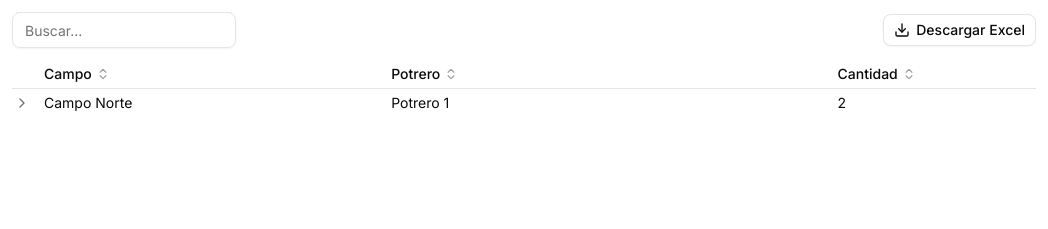
LivestockByPaddockTable › expands a group to show a table with each animal's data
Expected: the text "AR1" is not shown
Click the button named "expandir": (22, 103) [12,93,32,113]
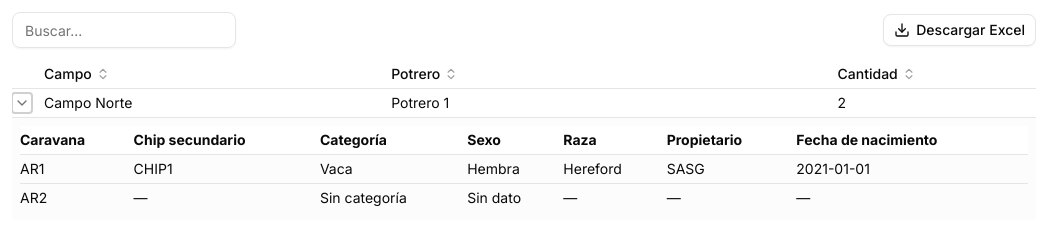
Result: the text "AR1" is shown at [20,154,134,184]
Result: the text "CHIP1" is shown at [134,154,320,184]
Result: the text "Vaca" is shown at [320,154,467,184]
